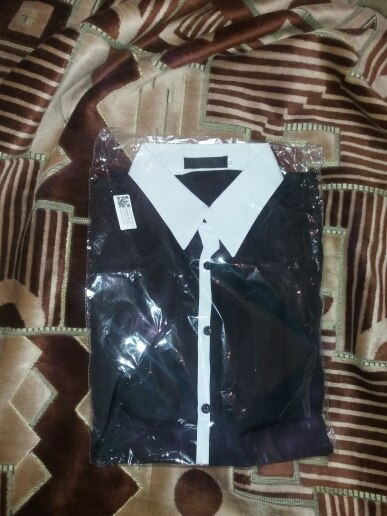shirts: (91, 153, 321, 470)
